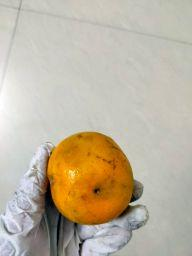orange: (46, 129, 135, 226)
